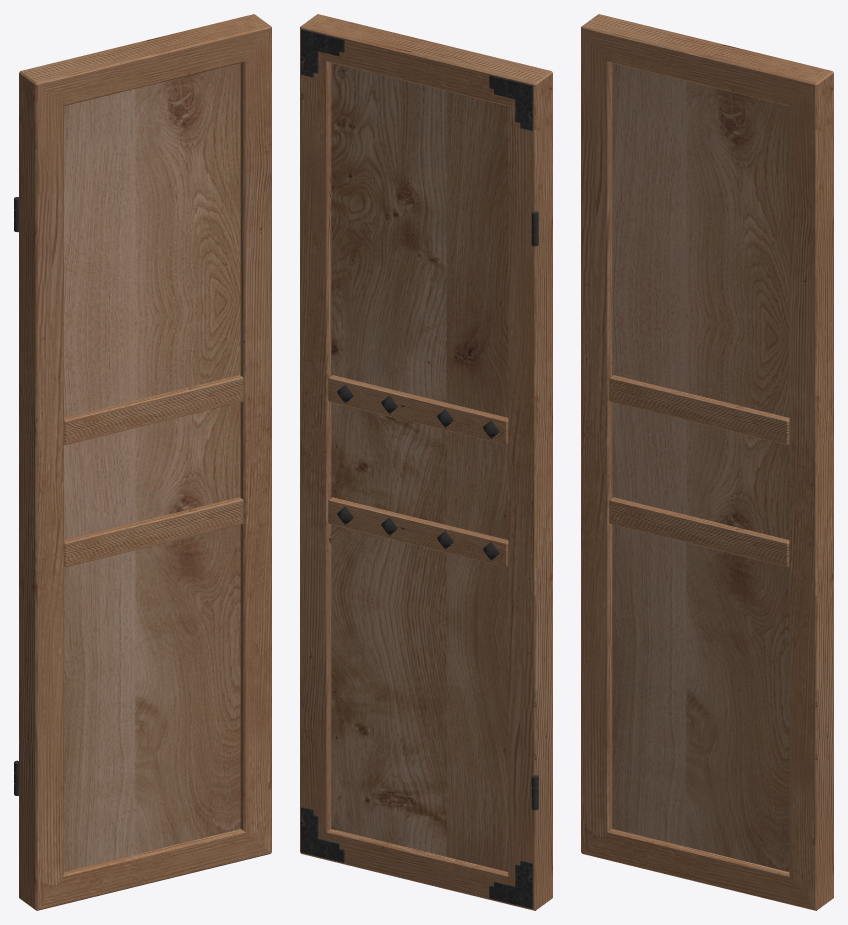
File: SM_Yeonkyung_S_Haenggak_Win_H_001.fbx
3 renders of one model, left to right at view 1: azimuth 30°, elevation 25°; view 2: azimuth 150°, elevation 25°; view 3: azimuth 330°, elevation 25°, orthographic.
Parts seen in each view (by area): view 1: SM_Yeonkyung_S_Haenggak_Win_H_001; view 2: SM_Yeonkyung_S_Haenggak_Win_H_001; view 3: SM_Yeonkyung_S_Haenggak_Win_H_001.
Boxes of the visible parts, x1=… form: SM_Yeonkyung_S_Haenggak_Win_H_001: x1=14, y1=14, x2=271, y2=910; SM_Yeonkyung_S_Haenggak_Win_H_001: x1=300, y1=14, x2=552, y2=910; SM_Yeonkyung_S_Haenggak_Win_H_001: x1=581, y1=14, x2=833, y2=910.
Bounding box in the file's own units: 50.37 × 166 × 8.31.
